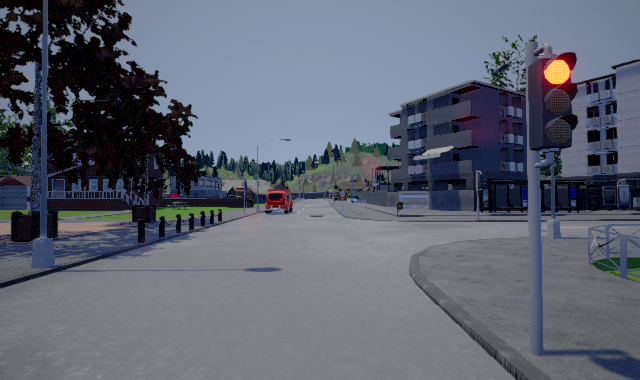traffic_light: (528, 50, 577, 148)
traffic_sign: (338, 190, 347, 199)
vehicle: (265, 189, 293, 214)
